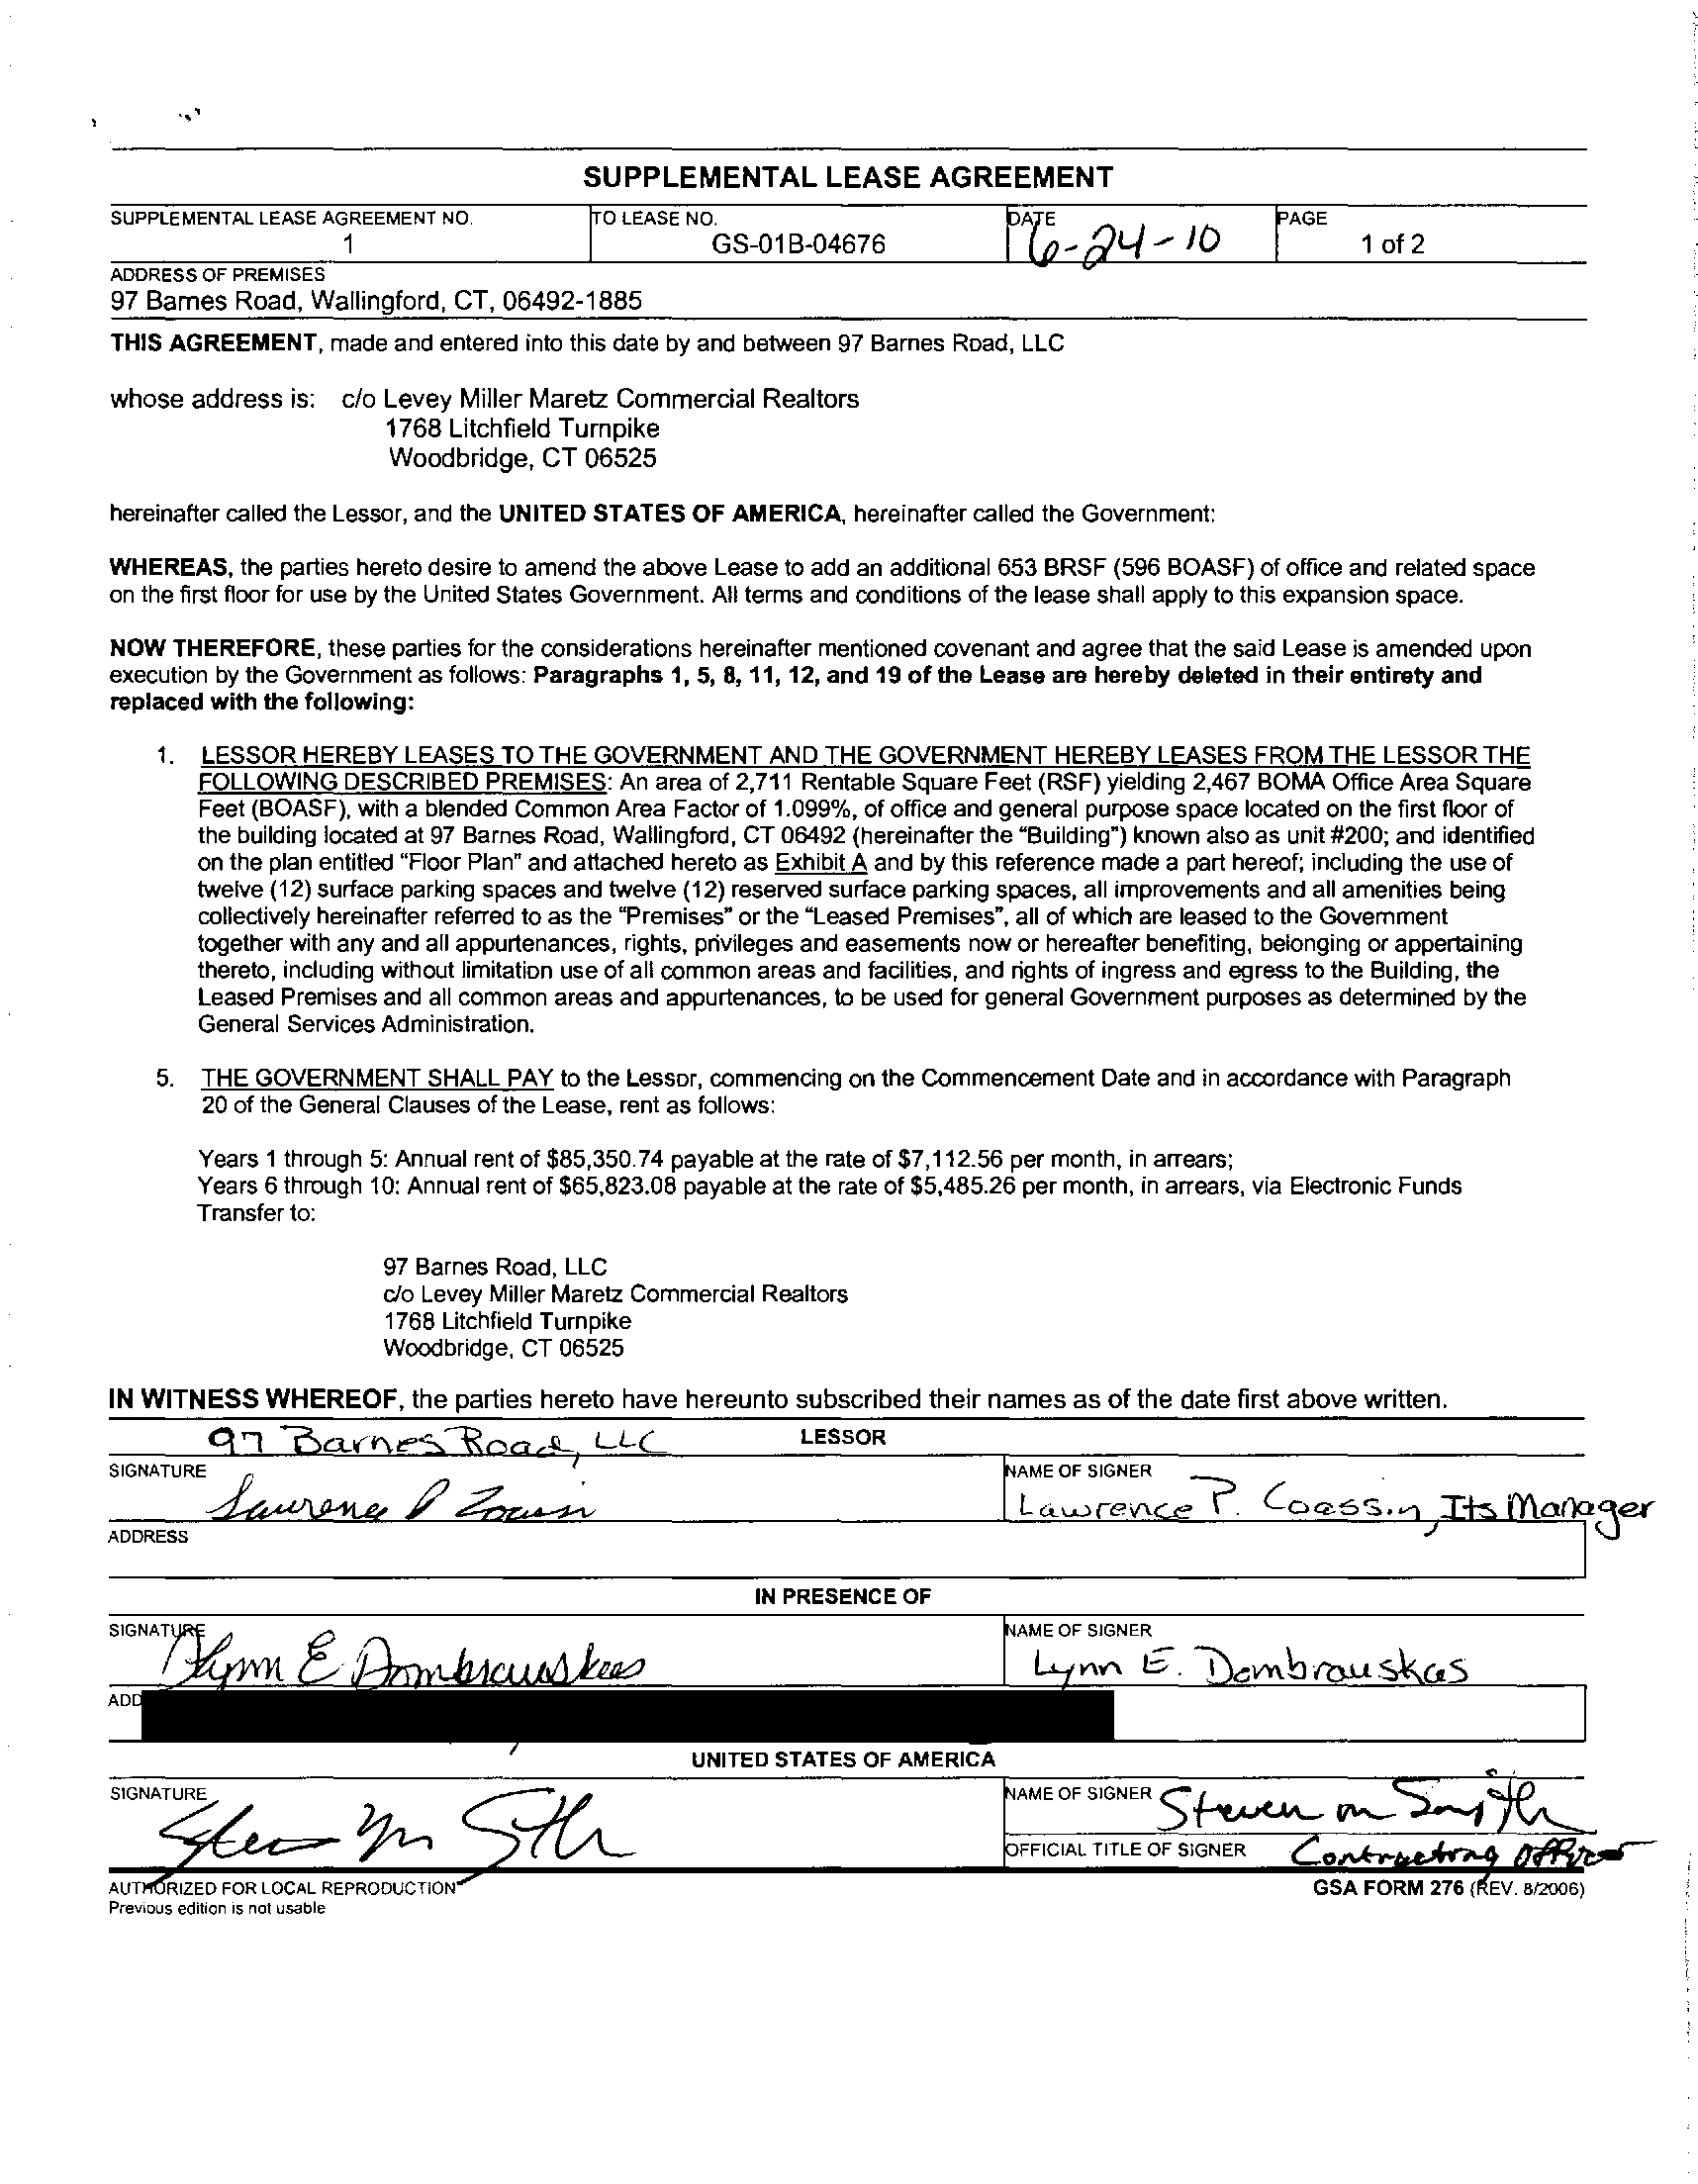handwritten: (1003, 1471, 1679, 1544), (149, 1796, 666, 1874), (1152, 1774, 1611, 1838), (1017, 1638, 1485, 1693), (145, 1642, 677, 1689), (214, 1466, 597, 1521), (202, 1425, 682, 1459), (1289, 1840, 1654, 1872)
